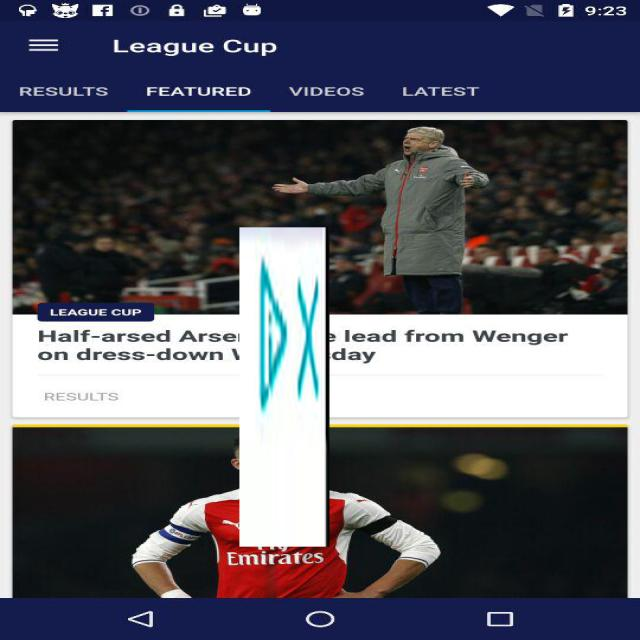sneaking: (240, 227, 330, 547)
